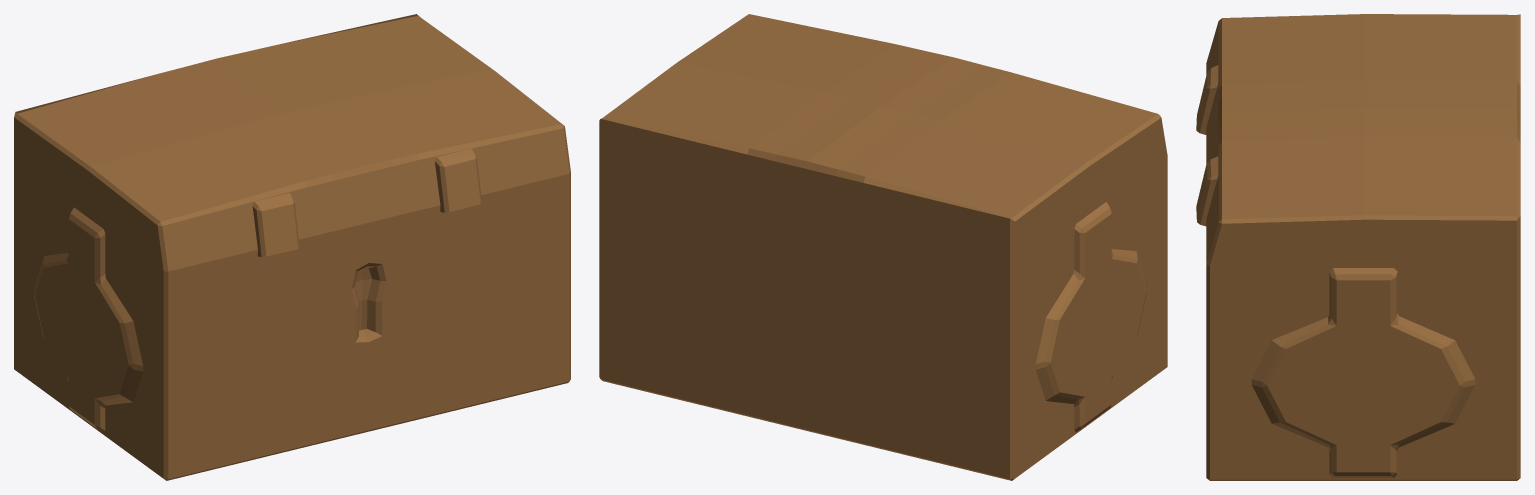
File: NST_Box.fbx
3 views of the same model, side by side, from view 1: azimuth 30°, elevation 25°; view 2: azimuth 150°, elevation 25°; view 3: azimuth 270°, elevation 25° (orthographic). The views are drawn at different scales.
Visible parts, largest first — view 1: NST_Box, NST_Box_Openable; view 2: NST_Box, NST_Box_Openable; view 3: NST_Box_Openable, NST_Box.
Part boxes in pixels (x1,y1,x2,y2): NST_Box: [14, 162, 570, 480]; NST_Box_Openable: [14, 14, 570, 271]; NST_Box: [599, 155, 1167, 480]; NST_Box_Openable: [599, 14, 1167, 267]; NST_Box_Openable: [1196, 14, 1520, 265]; NST_Box: [1206, 264, 1520, 480].
Bounding box in the file's own units: 40.52 × 24.36 × 26.29.
